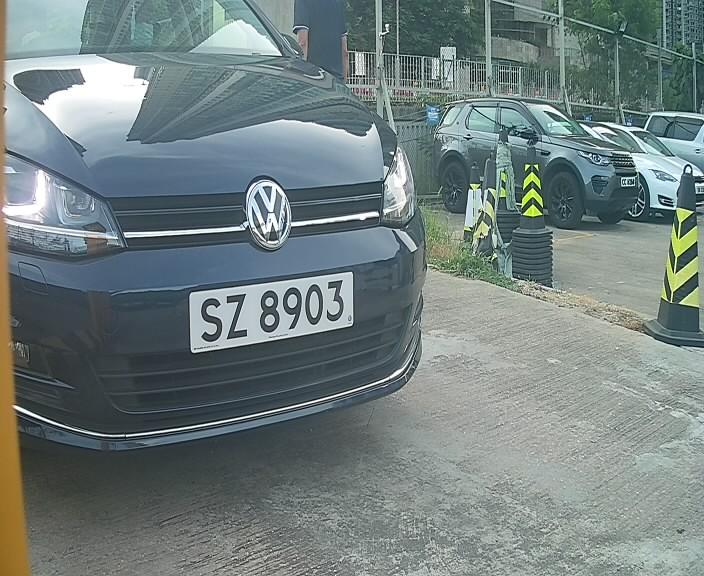License Plate: (183, 268, 359, 353)
